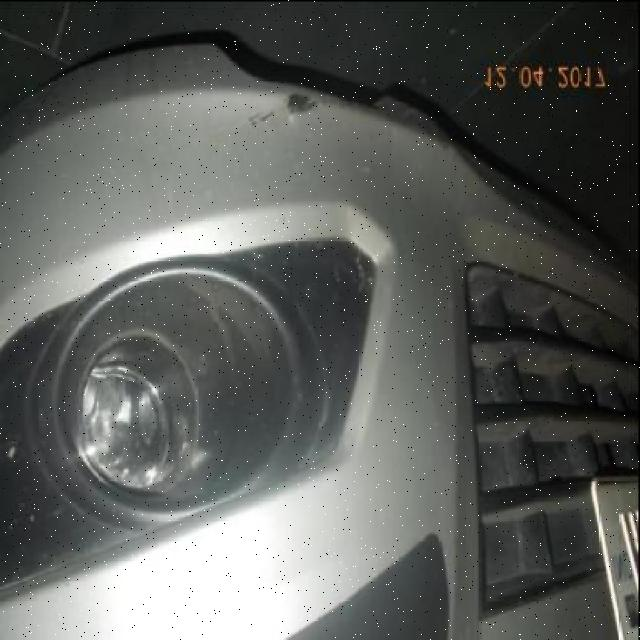damage: (282, 88, 324, 123), (249, 101, 275, 128)
